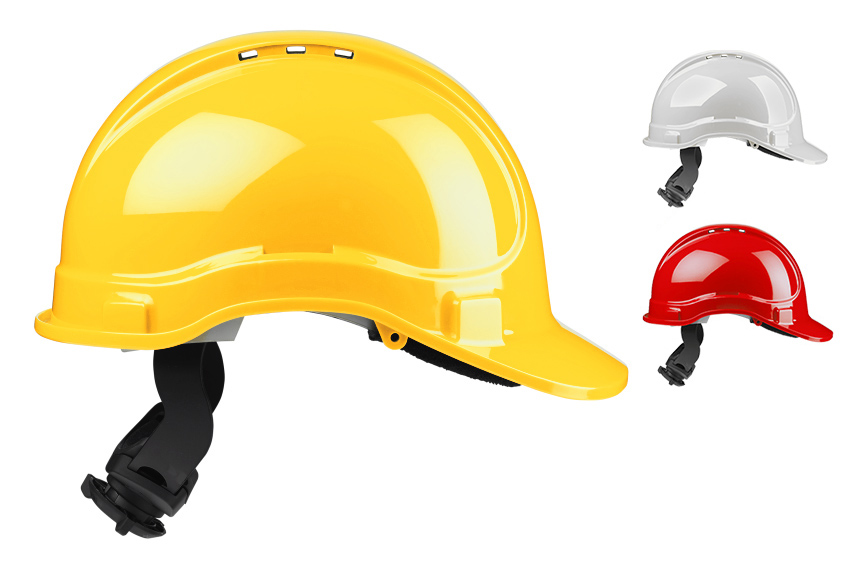baret: (31, 26, 632, 407), (648, 221, 834, 390), (644, 52, 832, 211)
